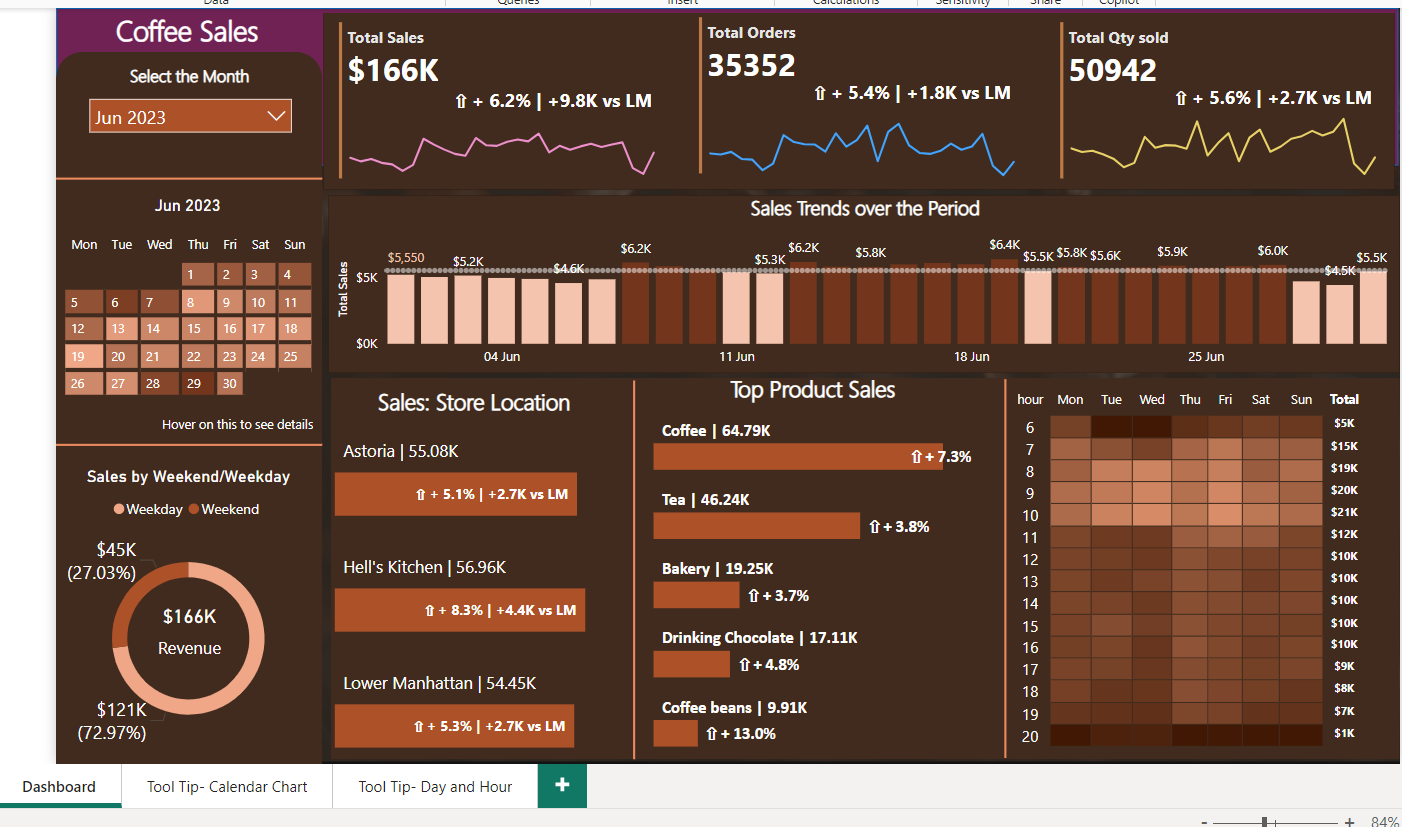

Layout of this report page (visuals, bound fields, positions):
{"tool":"powerbi","page":{"name":"Dashboard","canvas":[1280,720],"ordinal":0},"visuals":[{"type":"shape","box":[261.9,352.4,1017.9,363.1],"z":0},{"type":"shape","box":[0,0,1278.6,150],"z":1000},{"type":"cardVisual","fields":{"Data":["Transactions.Total Orders"]},"box":[608.9,4.8,310,157],"z":1000,"group":"g5"},{"type":"cardVisual","fields":{"Data":["Transactions.Total Sales"]},"box":[265.5,9.5,310,157],"z":1000,"group":"g2"},{"type":"cardVisual","fields":{"Data":["Transactions.Total Qty sold"]},"box":[952.4,9.5,310,157],"z":1000,"group":"g4"},{"type":"shape","box":[0,41.7,253.6,678.6],"z":2000},{"type":"shape","box":[254.8,4.8,1020.2,168],"z":3000},{"type":"lineChart","fields":{"Y":["Transactions.Total Orders"],"Category":["Date Table.Date Hierarchy.Date"]},"box":[608.9,88.1,319,78.6],"z":3000,"group":"g5"},{"type":"lineChart","fields":{"Y":["Transactions.Total Qty sold"],"Category":["Date Table.Date Hierarchy.Date"]},"box":[952.4,88.1,319,79],"z":3000,"group":"g4"},{"type":"lineChart","fields":{"Y":["Transactions.Total Sales"],"Category":["Date Table.Date Hierarchy.Date"]},"box":[265.5,94,319,79],"z":3000,"group":"g2"},{"type":"slicer","fields":{"Values":["Date Table.Month Year"]},"box":[21.4,76.2,213.1,51.2],"z":4000},{"type":"group","id":"g1","title":"Group 2","box":[952.4,9.5,319,157.6],"z":5000},{"type":"cardVisual","fields":{"Data":["Transactions.Order_MoM Growth & Diff Orders"]},"box":[698.2,60.8,220.2,45.2],"z":5000,"group":"g5"},{"type":"cardVisual","fields":{"Data":["Transactions.Qty_MoM Growth & Diff Orders"]},"box":[1027.4,65.5,234.5,45.2],"z":5000,"group":"g4"},{"type":"cardVisual","fields":{"Data":["Transactions.MoM Growth & Diff Sales"]},"box":[341.7,67.8,234.5,45.2],"z":5000,"group":"g2"},{"type":"group","id":"g2","title":"Group 1","box":[265.5,9.5,319,163.5],"z":6000},{"type":"group","id":"g3","title":"Group 3","box":[952.4,9.5,319,157.6],"z":6001,"group":"g1"},{"type":"group","id":"g4","title":"Group 4","box":[952.4,9.5,319,157.6],"z":6001,"group":"g3"},{"type":"group","id":"g5","title":"Group 5","box":[608.9,4.8,319,161.9],"z":7000},{"type":"pivotTable","fields":{"Columns":["Date Table.Day Name"],"Rows":["Date Table.Week Number"],"Values":["Min(Date Table.Day Number)"]},"box":[0,208.1,290.5,193],"z":8000},{"type":"card","fields":{"Values":["Min(Date Table.Month Year)"]},"box":[86.9,173.8,77.4,29.8],"z":9000},{"type":"textbox","box":[60.7,382.1,189.3,29.8],"z":10000},{"type":"shape","box":[0,155.8,253.6,13.1],"z":11000},{"type":"shape","box":[0,409.5,253.6,13.1],"z":12000},{"type":"donutChart","title":"Sales by Weekend/Weekday","fields":{"Y":["Transactions.Total Sales"],"Category":["Date Table.Weekend/Weekday"],"Series":["Date Table.Weekend/Weekday"]},"box":[3.6,436.9,245.2,278.6],"z":13000},{"type":"card","fields":{"Values":["Transactions.Total Sales"]},"box":[88.1,558.3,78.6,65.5],"z":14000},{"type":"card","fields":{"Values":["Transactions.Coffee Sales"]},"box":[0,1.2,250,41.7],"z":15000},{"type":"shape","box":[259.5,178.6,1020.2,169],"z":16000},{"type":"columnChart","title":"Sales Trends over the Period","fields":{"Category":["Transactions.transaction_date"],"Y":["Transactions.Total Sales"]},"box":[263.1,177.4,1015.5,172.6],"z":17000},{"type":"clusteredBarChart","title":"Top Product Sales","fields":{"Y":["Transactions.Placeholder","Transactions.Total Sales"],"Category":["Transactions.product_category"]},"box":[564.3,347.6,313.1,363.1],"z":18000},{"type":"clusteredBarChart","title":"Sales: Store Location","fields":{"Category":["Transactions.store_location"],"Y":["Transactions.Placeholder","Transactions.Total Sales"]},"box":[260.7,359.5,275,356],"z":19000},{"type":"shape","box":[538.1,354.8,25,360.7],"z":20000},{"type":"shape","box":[891.7,353.6,25,360.7],"z":21000},{"type":"pivotTable","fields":{"Rows":["Transactions.hour"],"Columns":["Date Table.Day Name"],"Values":["Transactions.Total Sales"]},"box":[904.8,359.5,375,356],"z":22000},{"type":"card","fields":{"Values":["Date Table.mon"]},"box":[27.4,52.4,200,28],"z":23000}]}

Visuals, with their boxes on the page's 1280x720 design canvas (x1, y1, x2, y2). These are canvas units, not pixel positions in the 1402x827 screenshot, which may show the page scaled, cropped or inside an application window:
shape: (left=262, top=352, right=1280, bottom=716)
shape: (left=0, top=0, right=1279, bottom=150)
cardVisual - Transactions.Total Orders: (left=609, top=5, right=919, bottom=162)
cardVisual - Transactions.Total Sales: (left=266, top=10, right=576, bottom=166)
cardVisual - Transactions.Total Qty sold: (left=952, top=10, right=1262, bottom=166)
shape: (left=0, top=42, right=254, bottom=720)
shape: (left=255, top=5, right=1275, bottom=173)
lineChart - Transactions.Total Orders x Date Table.Date Hierarchy.Date: (left=609, top=88, right=928, bottom=167)
lineChart - Transactions.Total Qty sold x Date Table.Date Hierarchy.Date: (left=952, top=88, right=1271, bottom=167)
lineChart - Transactions.Total Sales x Date Table.Date Hierarchy.Date: (left=266, top=94, right=584, bottom=173)
slicer - Date Table.Month Year: (left=21, top=76, right=234, bottom=127)
"Group 2" group: (left=952, top=10, right=1271, bottom=167)
cardVisual - Transactions.Order_MoM Growth & Diff Orders: (left=698, top=61, right=918, bottom=106)
cardVisual - Transactions.Qty_MoM Growth & Diff Orders: (left=1027, top=66, right=1262, bottom=111)
cardVisual - Transactions.MoM Growth & Diff Sales: (left=342, top=68, right=576, bottom=113)
"Group 1" group: (left=266, top=10, right=584, bottom=173)
"Group 3" group: (left=952, top=10, right=1271, bottom=167)
"Group 4" group: (left=952, top=10, right=1271, bottom=167)
"Group 5" group: (left=609, top=5, right=928, bottom=167)
pivotTable - Date Table.Day Name x Date Table.Week Number: (left=0, top=208, right=290, bottom=401)
card - Min(Date Table.Month Year): (left=87, top=174, right=164, bottom=204)
textbox: (left=61, top=382, right=250, bottom=412)
shape: (left=0, top=156, right=254, bottom=169)
shape: (left=0, top=410, right=254, bottom=423)
"Sales by Weekend/Weekday" donutChart: (left=4, top=437, right=249, bottom=716)
card - Transactions.Total Sales: (left=88, top=558, right=167, bottom=624)
card - Transactions.Coffee Sales: (left=0, top=1, right=250, bottom=43)
shape: (left=260, top=179, right=1280, bottom=348)
"Sales Trends over the Period" columnChart: (left=263, top=177, right=1279, bottom=350)
"Top Product Sales" clusteredBarChart: (left=564, top=348, right=877, bottom=711)
"Sales: Store Location" clusteredBarChart: (left=261, top=360, right=536, bottom=716)
shape: (left=538, top=355, right=563, bottom=716)
shape: (left=892, top=354, right=917, bottom=714)
pivotTable - Transactions.hour x Date Table.Day Name: (left=905, top=360, right=1280, bottom=716)
card - Date Table.mon: (left=27, top=52, right=227, bottom=80)
